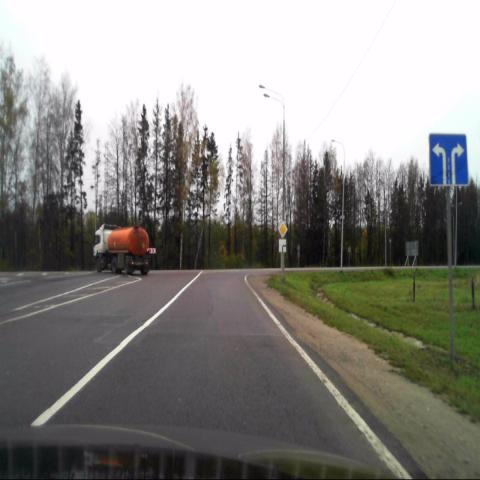2_1: (278, 221, 287, 237)
5_15_2_2: (428, 133, 469, 186)
8_13: (278, 238, 286, 252)
